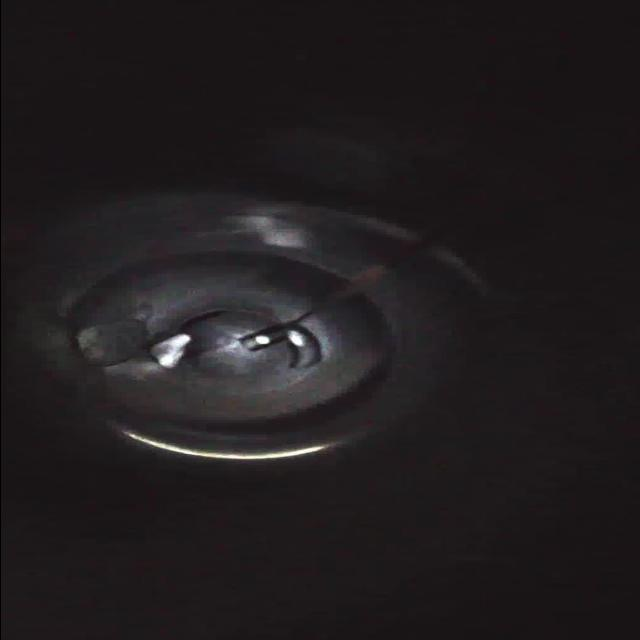impurity: (64, 320, 148, 370), (144, 334, 194, 372)
